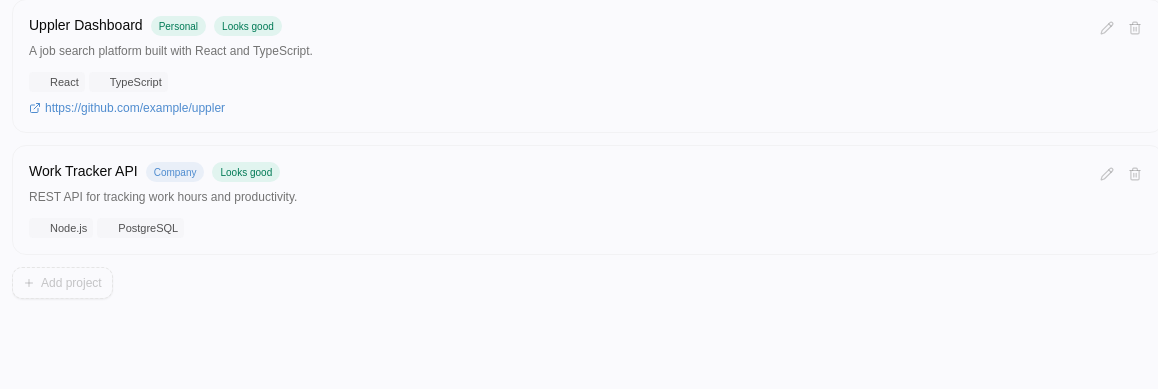
Test: ReviewProjectsSection — add project › appends a new project card when Add project is clicked
Click the button "Add project".
click(62, 283)  # box [12, 267, 113, 299]
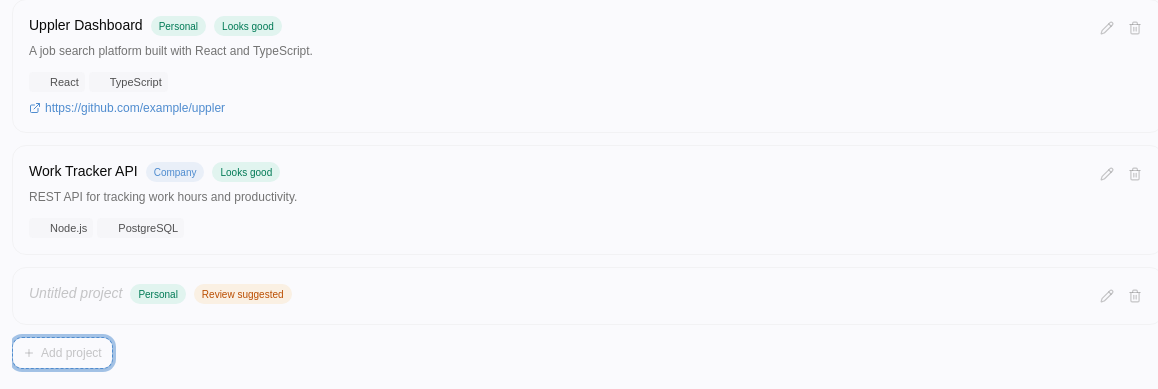
Expected: the number of buttons named "edit project" is 3, [1095, 16, 1119, 40]; [1095, 162, 1119, 186]; [1095, 284, 1119, 308]
